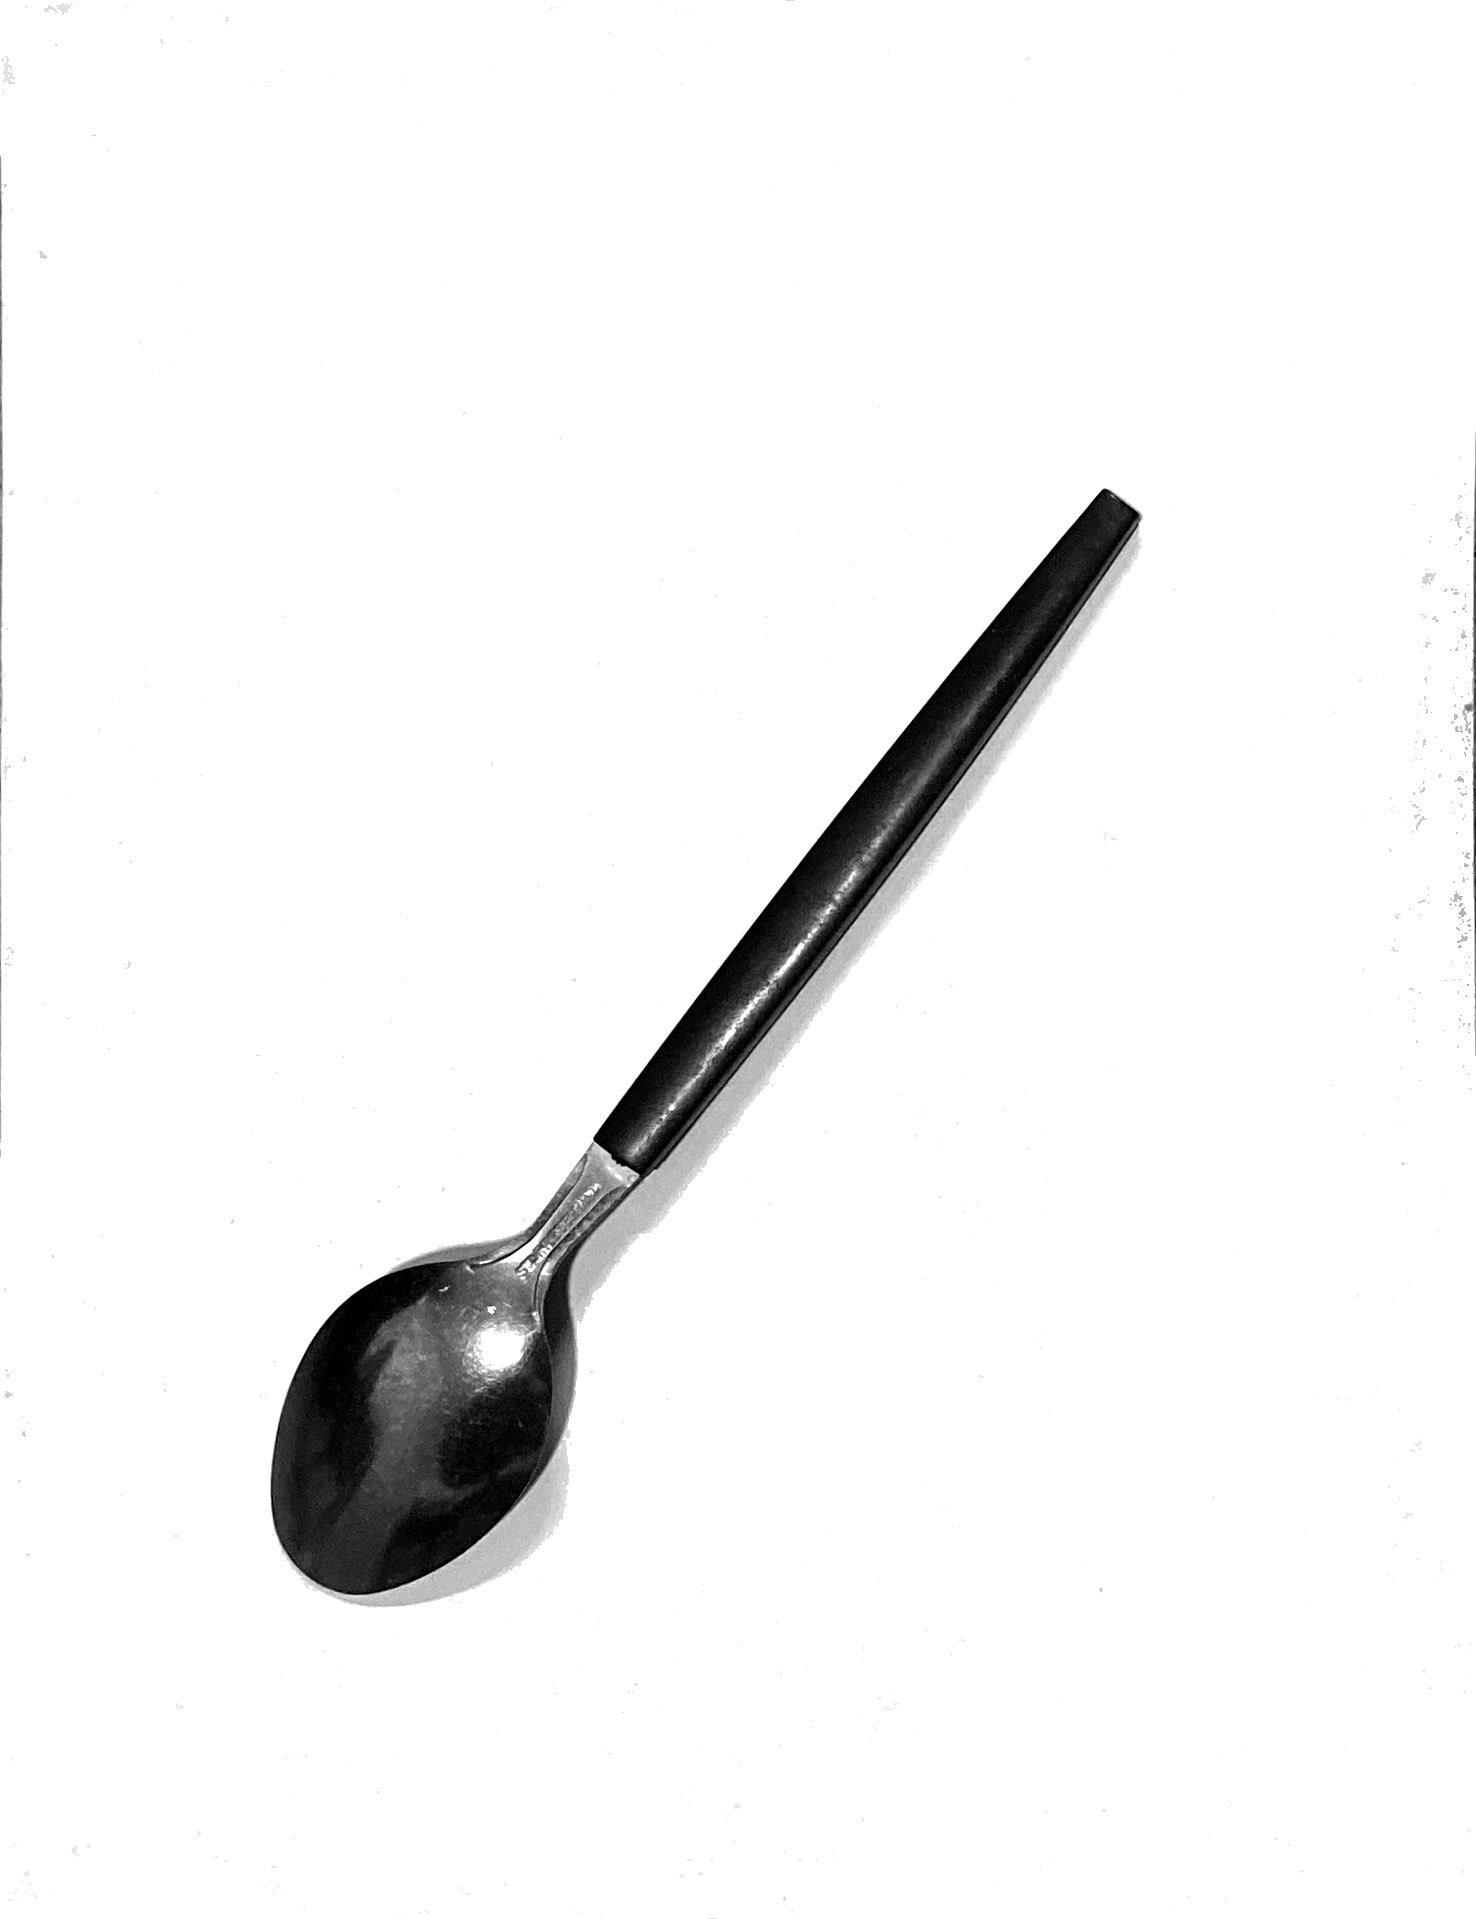Spoon: (226, 332, 1219, 1769)
